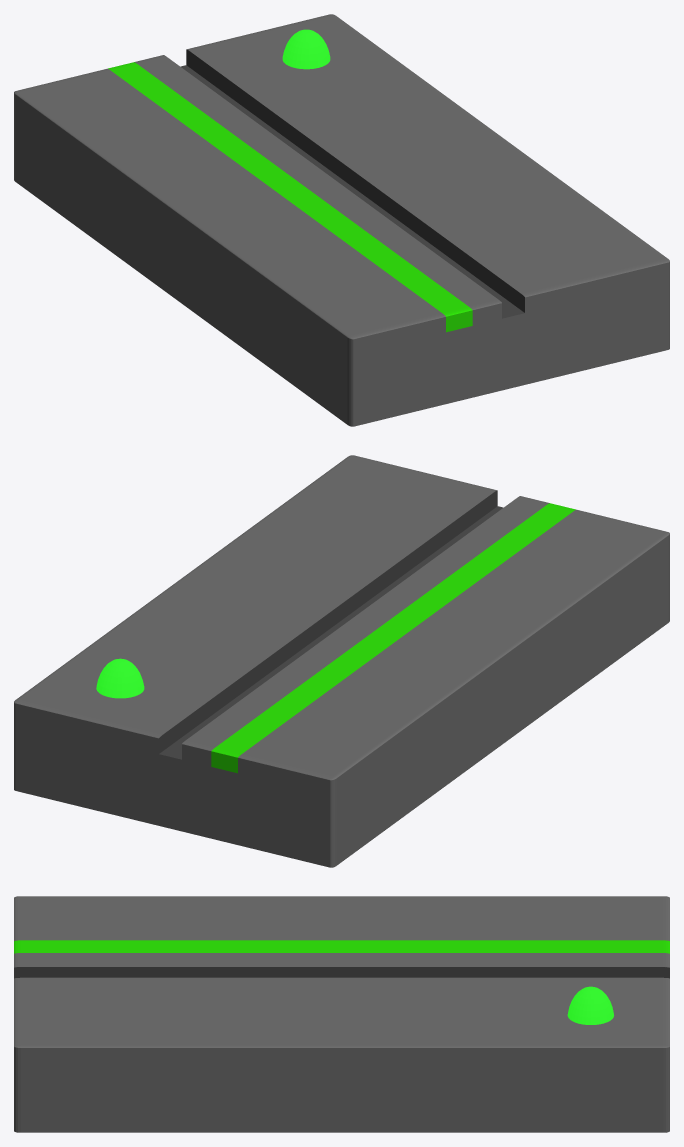
Rendered from GreenKeyCardScannerGL.glb.
The picture shows the model from 3 angles, top to bottom: view 1: azimuth 30°, elevation 25°; view 2: azimuth 150°, elevation 25°; view 3: azimuth 270°, elevation 25°; orthographic projection. The views are drawn at different scales.
Parts seen in each view (by area): view 1: Base, Light; view 2: Base, Light; view 3: Base, Light.
Boxes of the visible parts, x1,y1,x2,y2 form: Base: (14,14,669,426); Light: (282,29,330,69); Base: (14,455,669,867); Light: (96,658,144,698); Base: (14,896,669,1132); Light: (567,986,613,1024).
Size of the model in its own units: 0.055 by 0.0192 by 0.1006.
